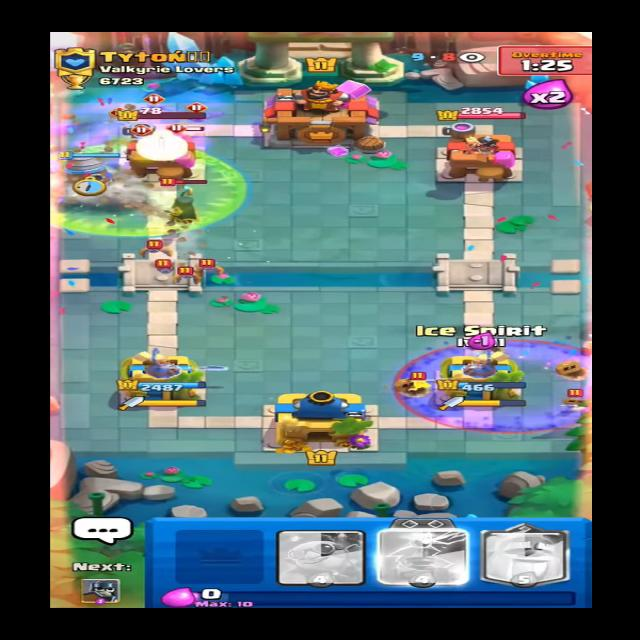bats: (148, 260, 183, 276), (140, 244, 172, 258), (194, 260, 222, 274)
evo-bats: (182, 97, 228, 123), (139, 90, 180, 116), (176, 125, 209, 141)
graveyard: (393, 336, 604, 436)
night-witch: (162, 176, 218, 220)
skeleton: (403, 372, 442, 394)
